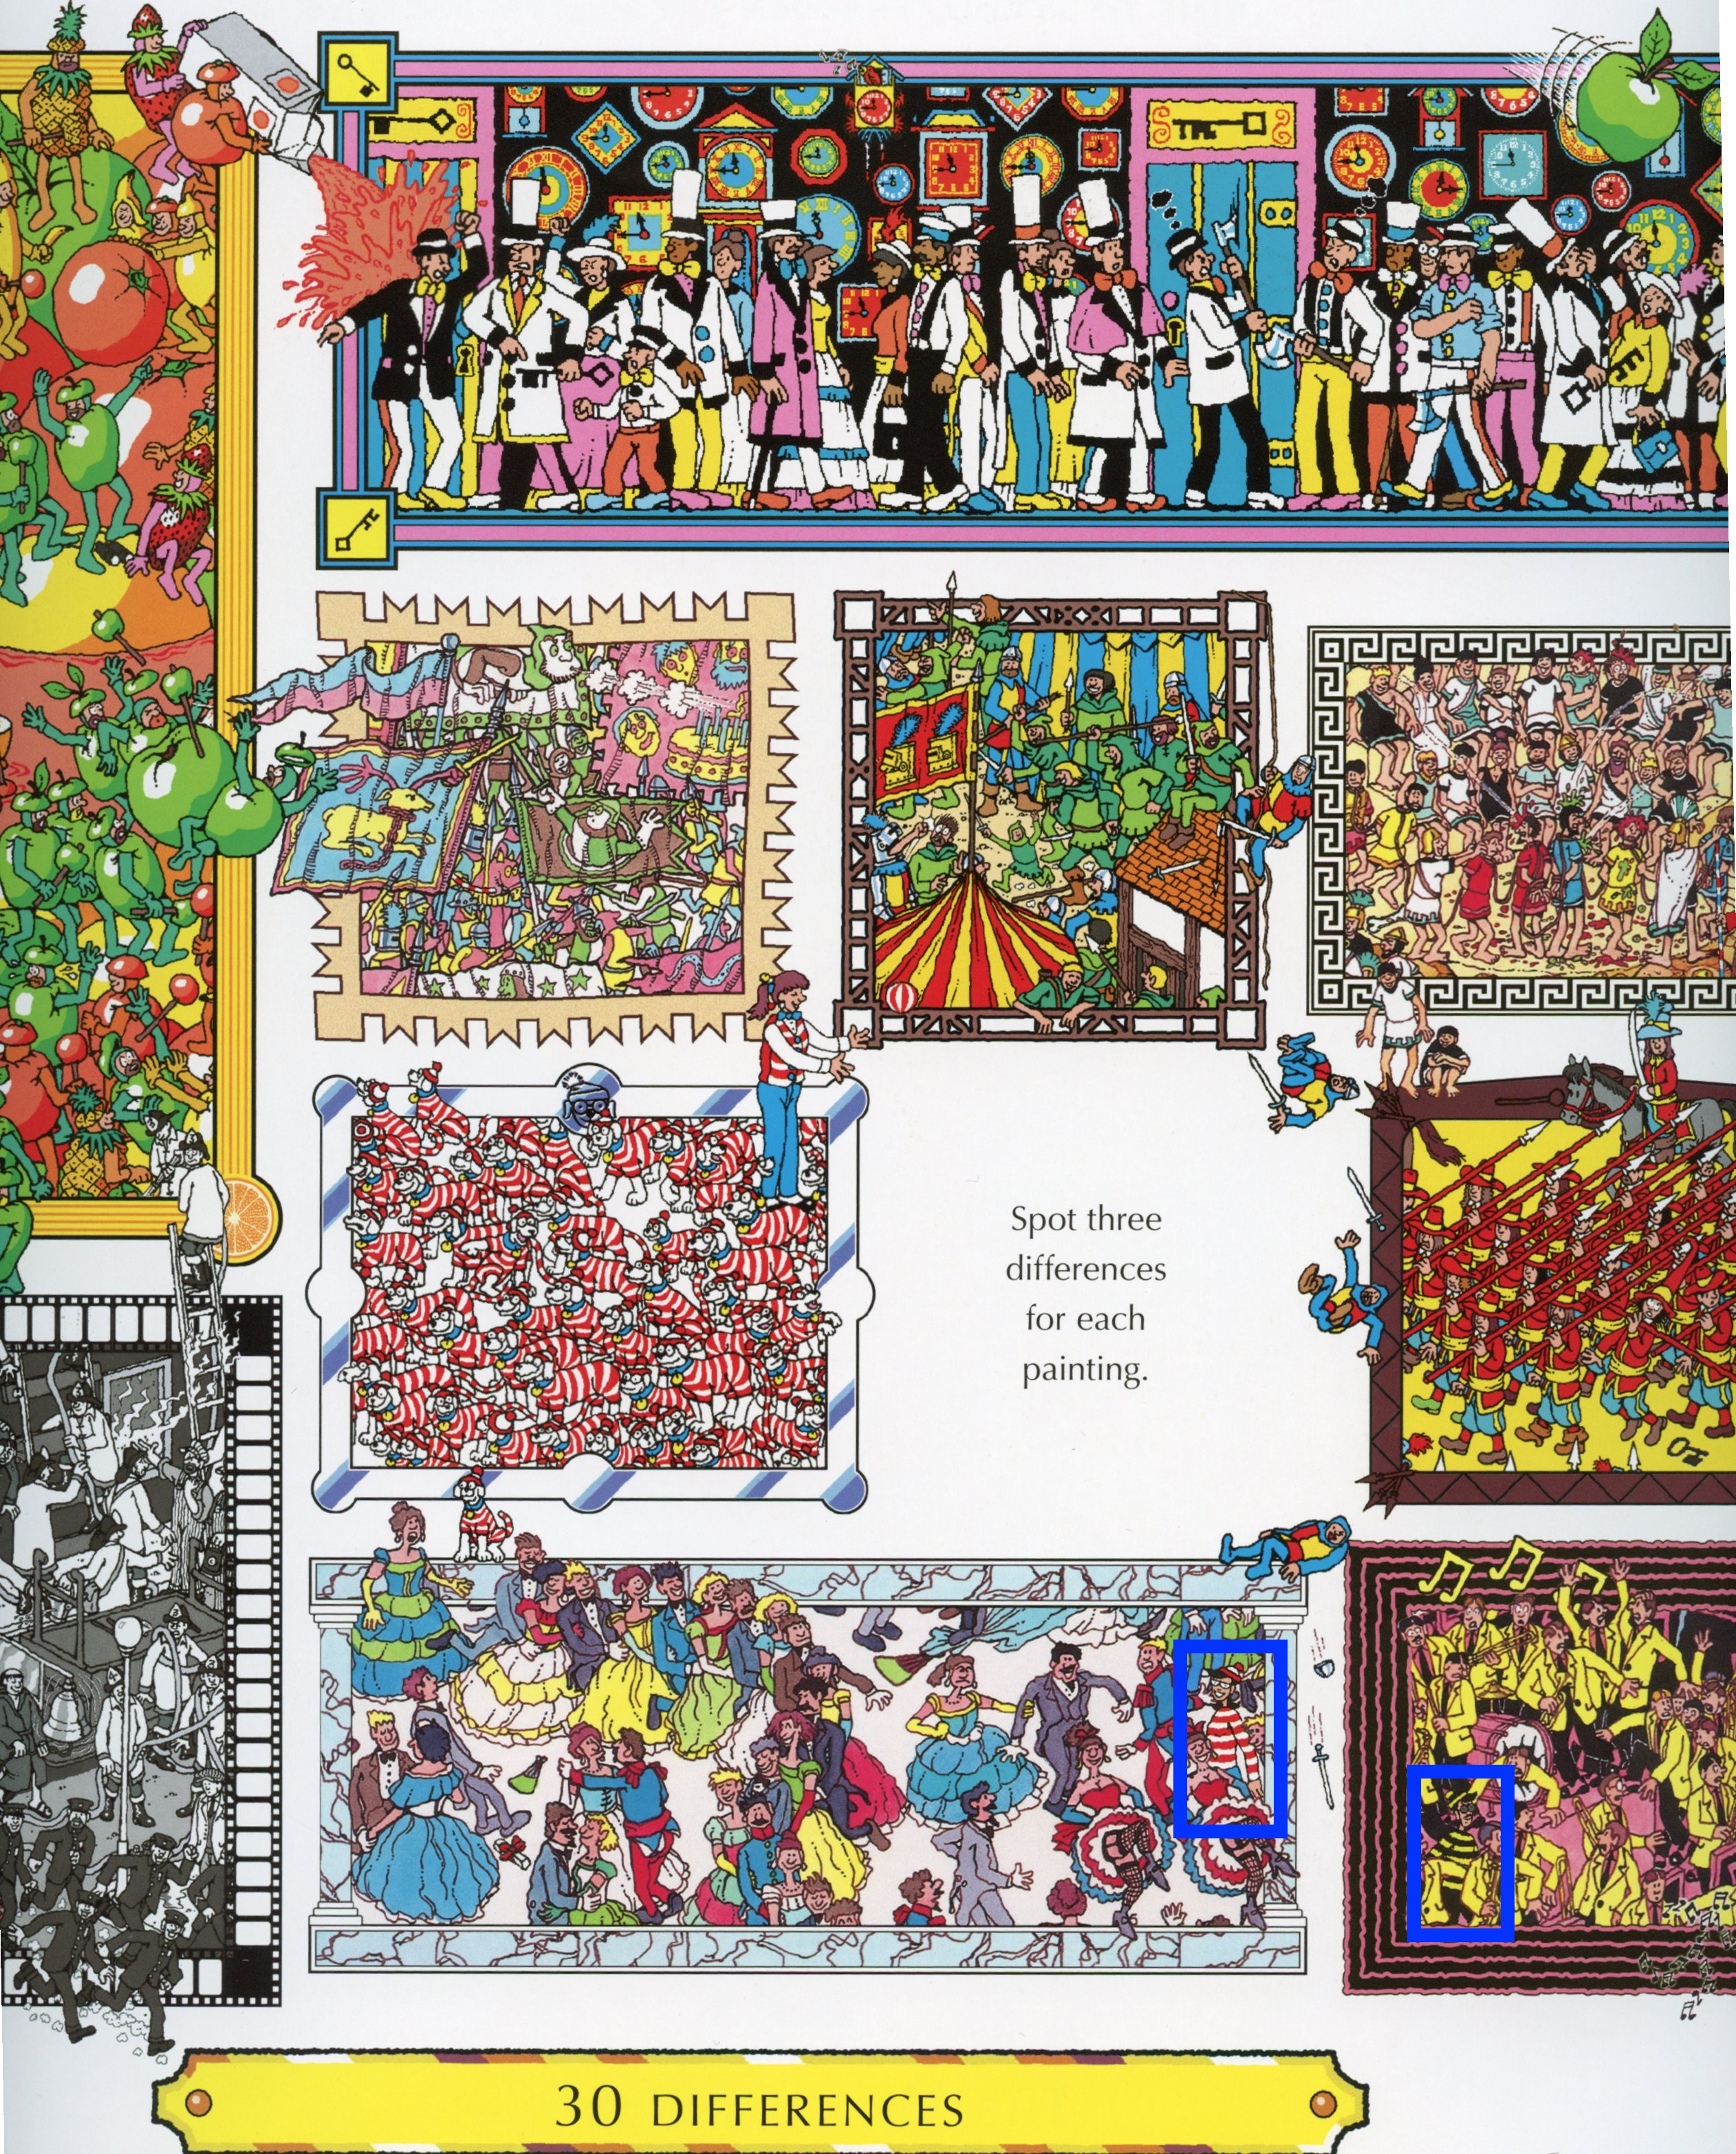odlaw: (1412, 1770, 1522, 1933)
wenda: (1185, 1642, 1293, 1846)
